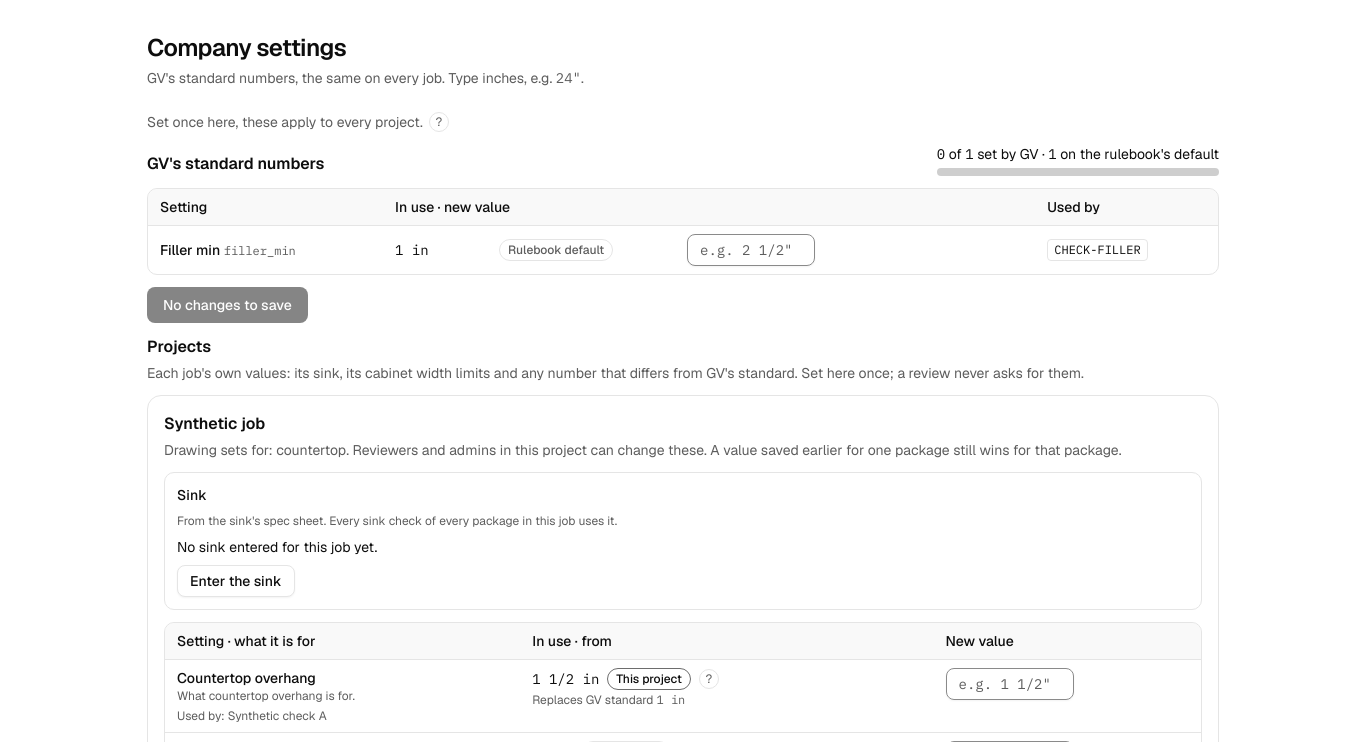
Test: Projects: what overrides what, and where it came from (#1369 item 2) › says which default a value replaces, with who, when, the source and its reference behind "?"
expect the row that starts with "Countertop overhang" shows "Replaces GV standard 1 in": met, box [165,660,1201,732]
expect the row does not show "Synthetic Reviewer": met
Step 1. Click the button named "Where Countertop overhang comes from" → click(709, 679), box [699,669,719,689]
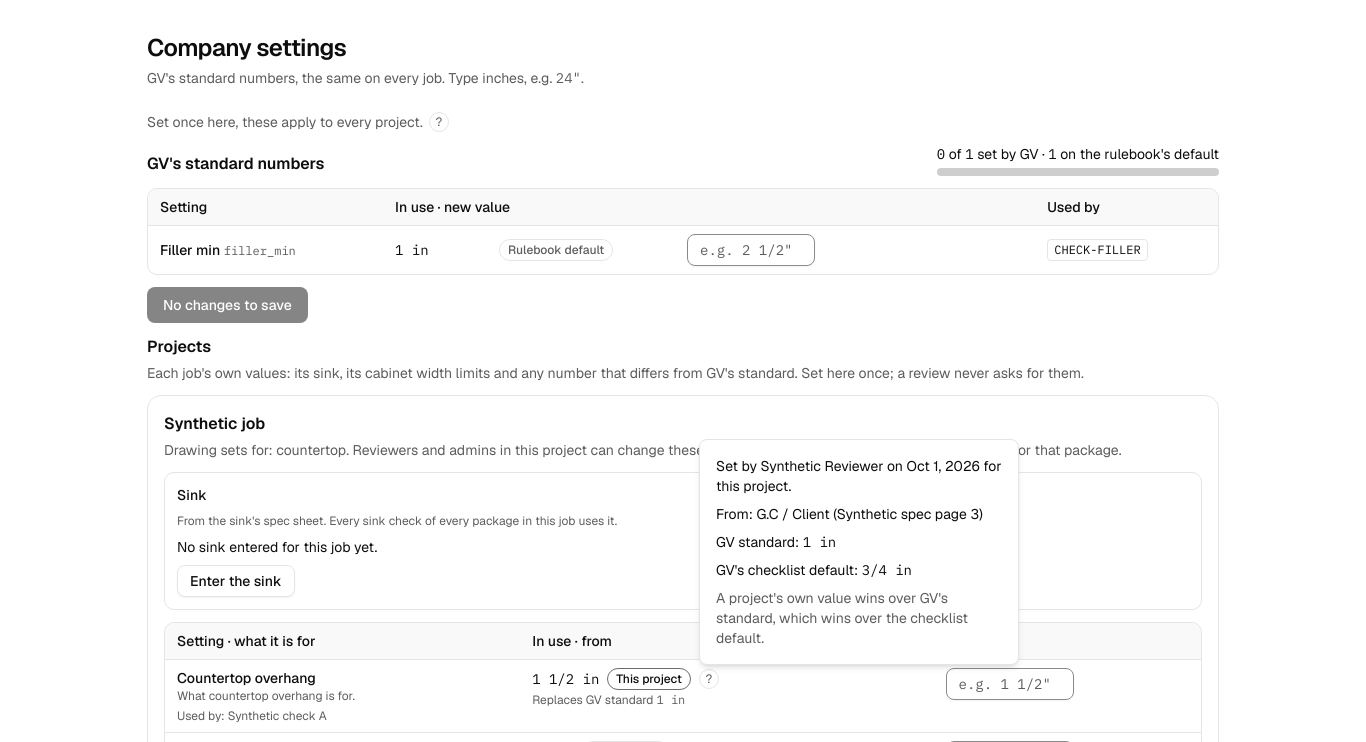
expect the dialog shows "Set by Synthetic Reviewer on": met, box [699,439,1019,665]
expect the dialog shows "From: G.C / Client (Synthetic spec page 3)": met, box [699,439,1019,665]
expect the dialog shows "GV standard: 1 in": met, box [699,439,1019,665]
